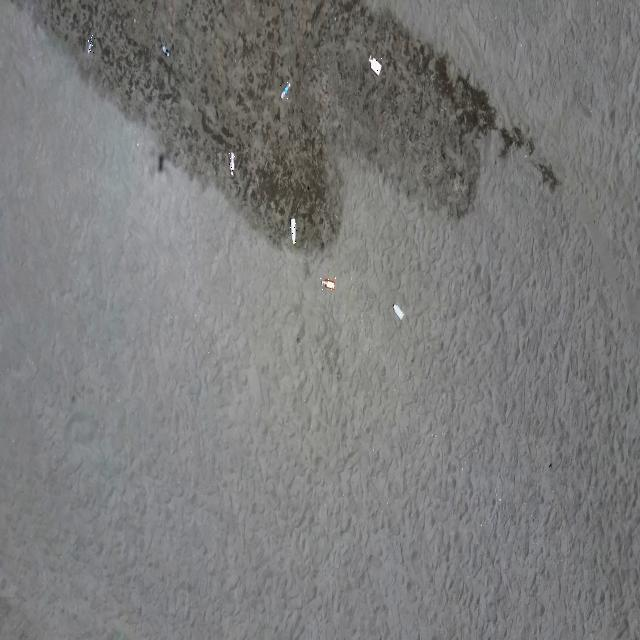plastic-bottle: (369, 54, 384, 77), (279, 80, 291, 100), (393, 303, 404, 321), (290, 217, 297, 245), (320, 278, 336, 290), (88, 35, 96, 54), (229, 152, 235, 176), (160, 43, 170, 57)
